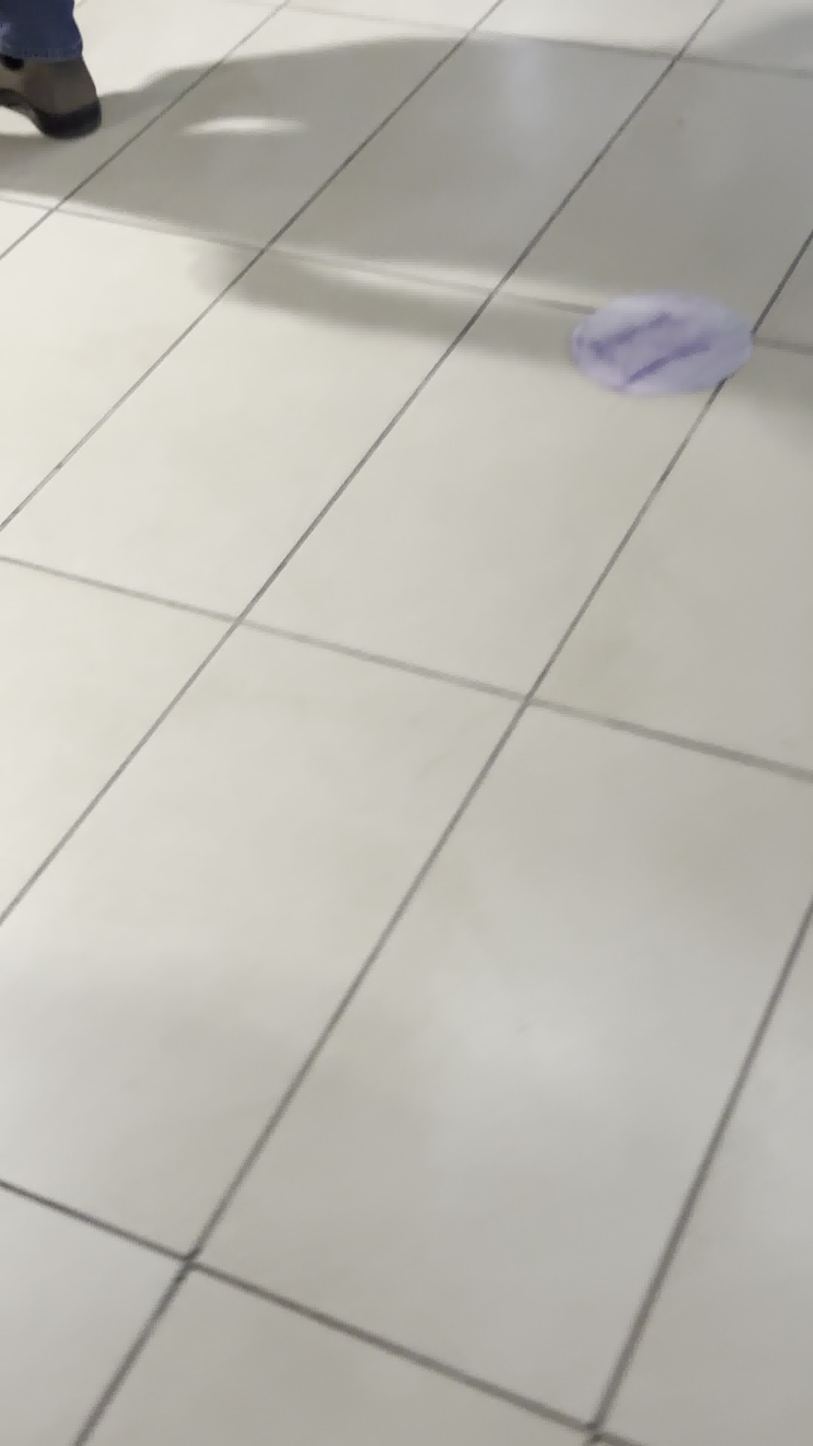Target: (567, 298, 752, 398)
